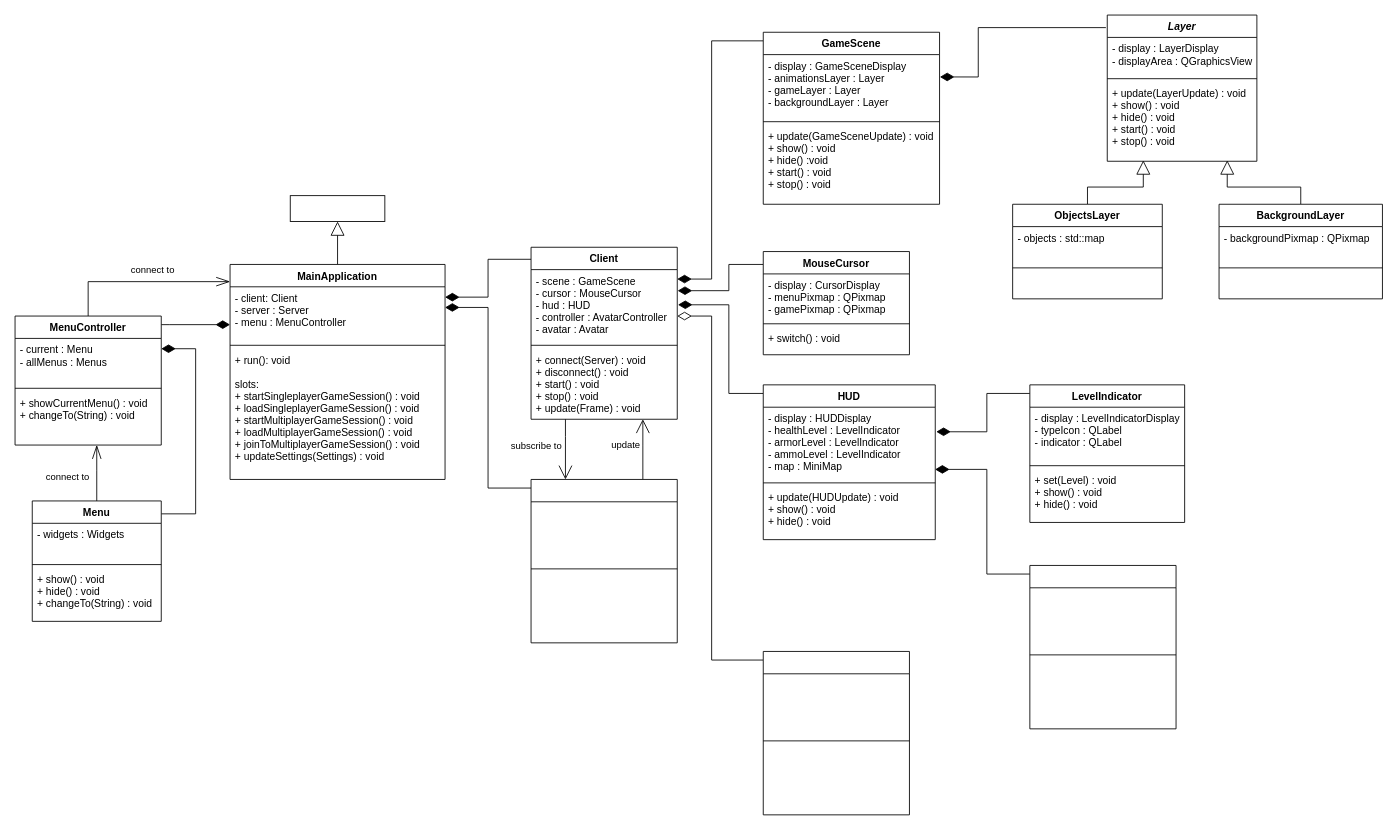
Image size: 1398x832. Some labels were removed from this diagram. The centre of each missing label's shape, as x and y in pixels:
"AvatarController" goes at point (835, 733).
"MiniMap" goes at point (1102, 647).
"QApplication" goes at point (337, 208).
"Server" goes at point (603, 561).
